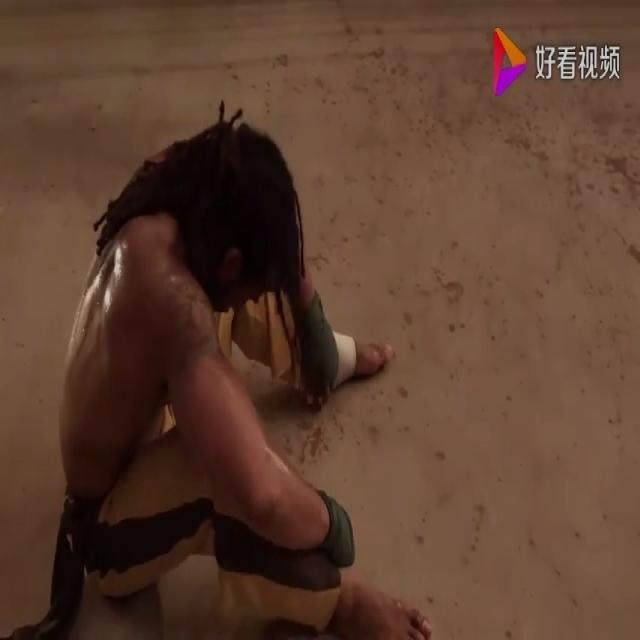non-fight: (53, 97, 434, 640)
